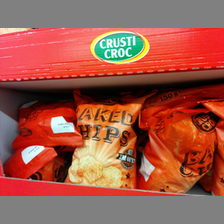chips: (67, 94, 141, 189), (139, 106, 217, 194), (12, 96, 86, 150)
